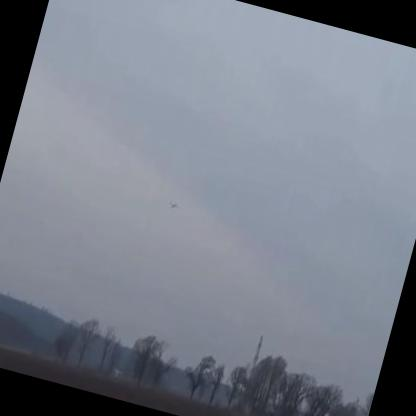plane: (157, 193, 185, 215)
